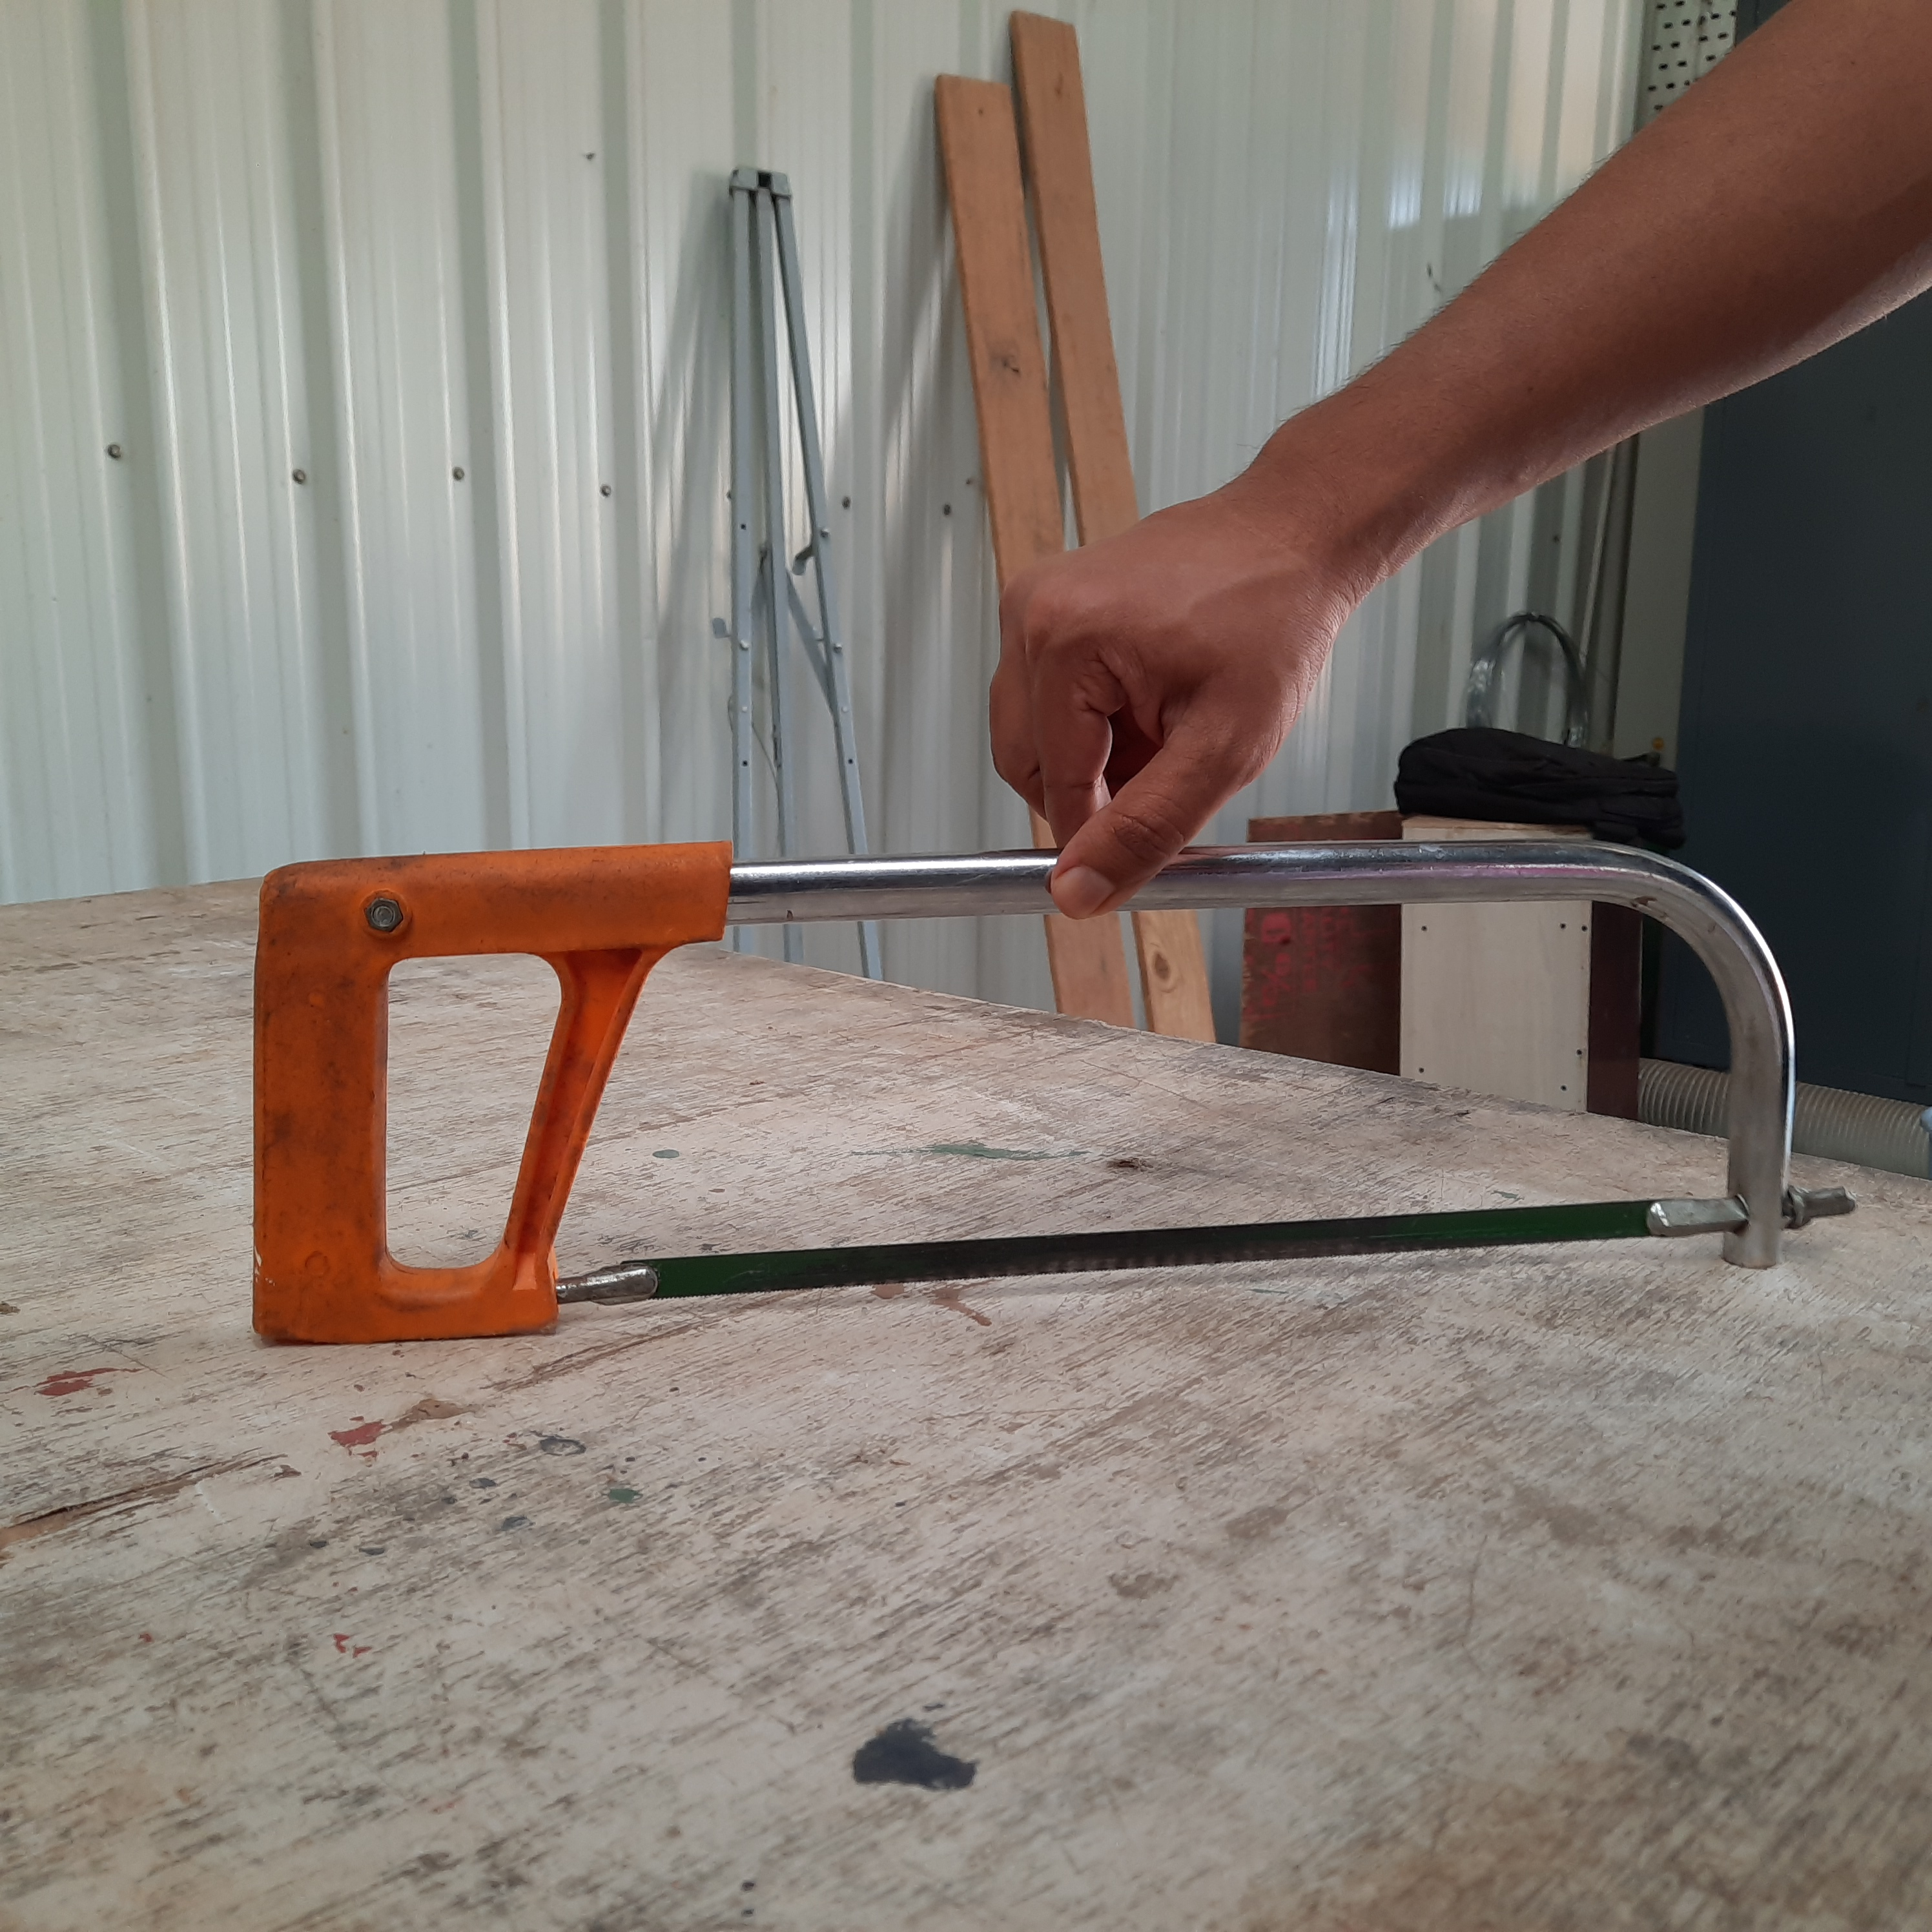Hexaframe: (223, 789, 1867, 1394)
